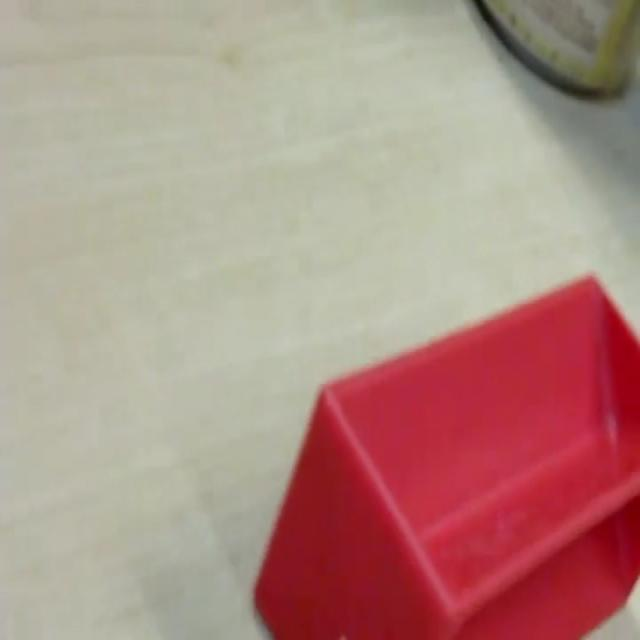red_block: (252, 270, 639, 638)
